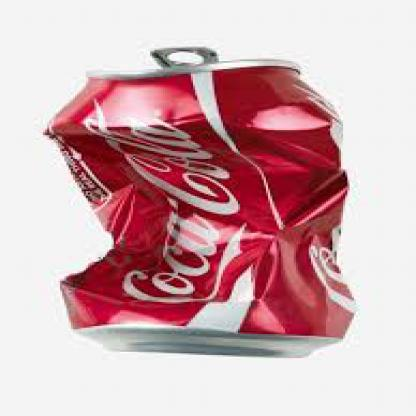METAL: (38, 46, 352, 356)
